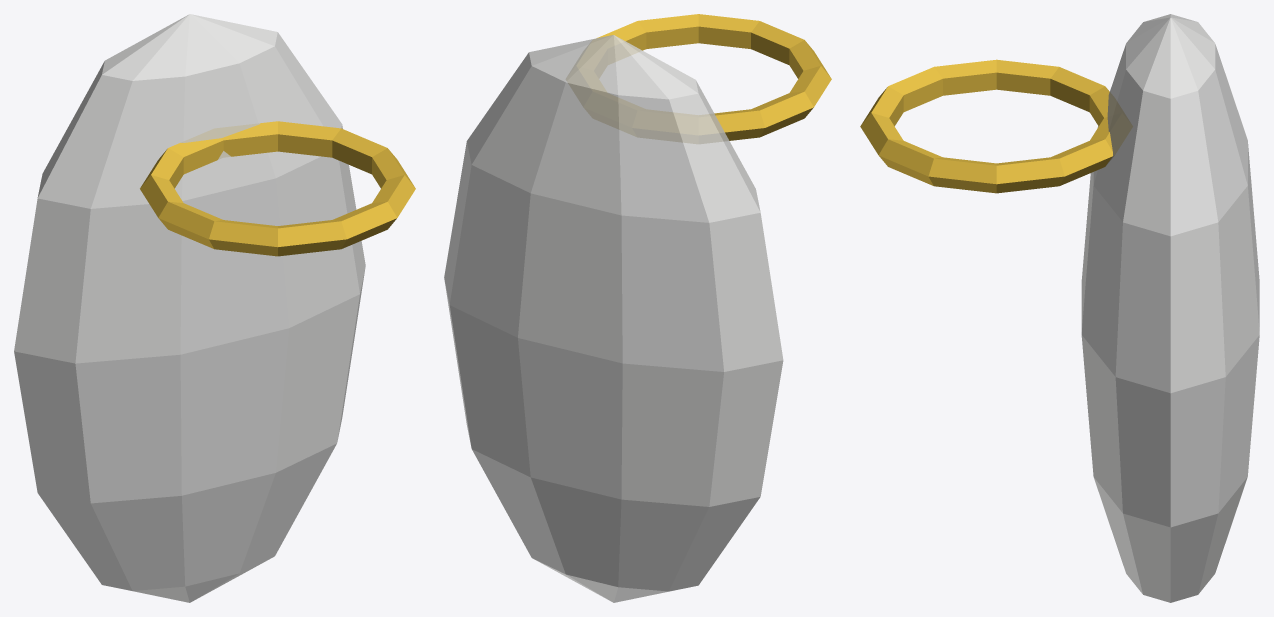
File: wedding_veil.glb
3 renders of one model, left to right at view 1: azimuth 30°, elevation 25°; view 2: azimuth 150°, elevation 25°; view 3: azimuth 270°, elevation 25°, orthographic. The views are drawn at different scales.
Visible parts, largest first — view 1: veil_wedding_veil, veil_wedding_gold; view 2: veil_wedding_veil, veil_wedding_gold; view 3: veil_wedding_veil, veil_wedding_gold.
Boxes of the visible parts, x1,y1,x2,y2 form: veil_wedding_veil: (14,14,365,602); veil_wedding_gold: (140,121,415,256); veil_wedding_veil: (444,35,783,602); veil_wedding_gold: (571,14,831,143); veil_wedding_veil: (1081,14,1259,602); veil_wedding_gold: (860,59,1125,193).
Size of the model in its own units: 0.3 by 0.48 by 0.2986.
